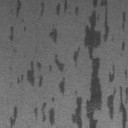red iron: (18, 0, 128, 128), (10, 0, 26, 40), (34, 98, 56, 126), (10, 107, 18, 128), (48, 28, 58, 44)
